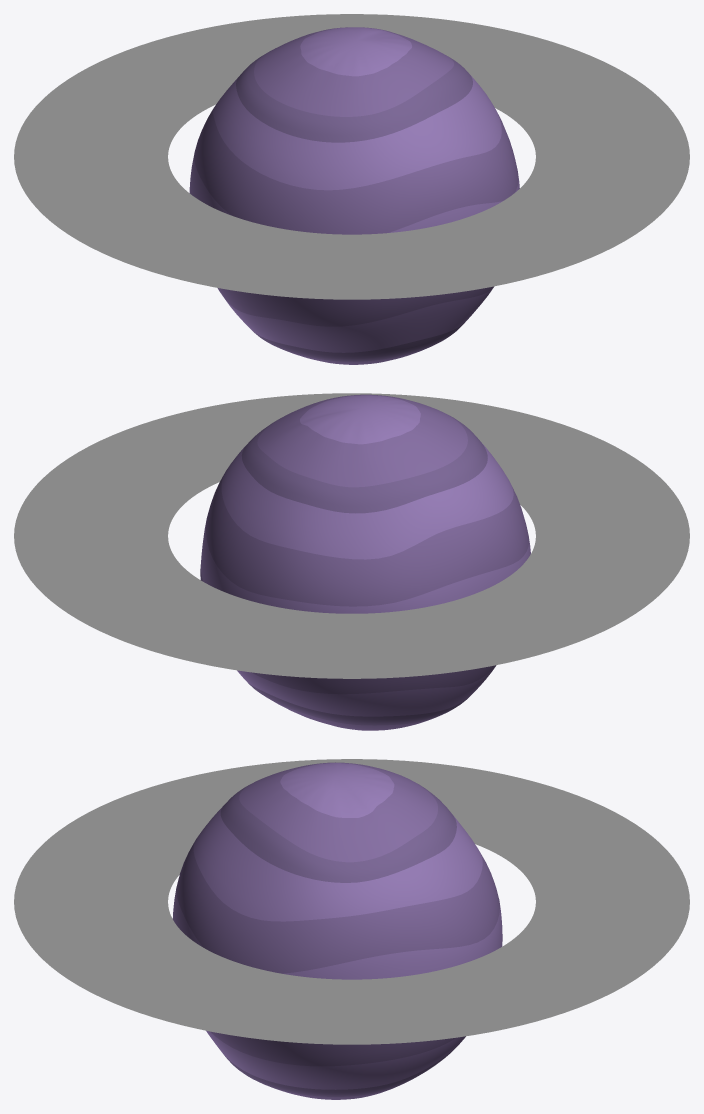
File: Mini Saturn.FBX
The picture shows the model from 3 angles, top to bottom: view 1: azimuth 30°, elevation 25°; view 2: azimuth 150°, elevation 25°; view 3: azimuth 270°, elevation 25°; orthographic projection.
Visible parts, largest first — view 1: outer ring, Mini Saturn; view 2: outer ring, Mini Saturn; view 3: outer ring, Mini Saturn.
Part boxes in pixels (bbox=[...]): outer ring: bbox=[14, 14, 689, 299]; Mini Saturn: bbox=[189, 27, 519, 364]; outer ring: bbox=[14, 393, 689, 678]; Mini Saturn: bbox=[200, 394, 530, 730]; outer ring: bbox=[14, 759, 689, 1044]; Mini Saturn: bbox=[172, 762, 502, 1099].
Bounding box in the file's own units: 219 × 111 × 219.
Materials: 2 (1 with a texture image).
